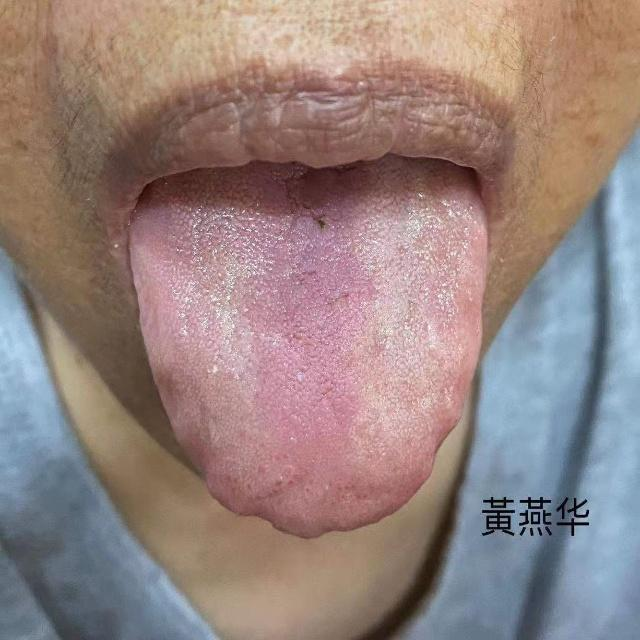baitaishe: (129, 182, 488, 540)
chihenshe: (150, 365, 282, 533), (424, 361, 476, 480)
